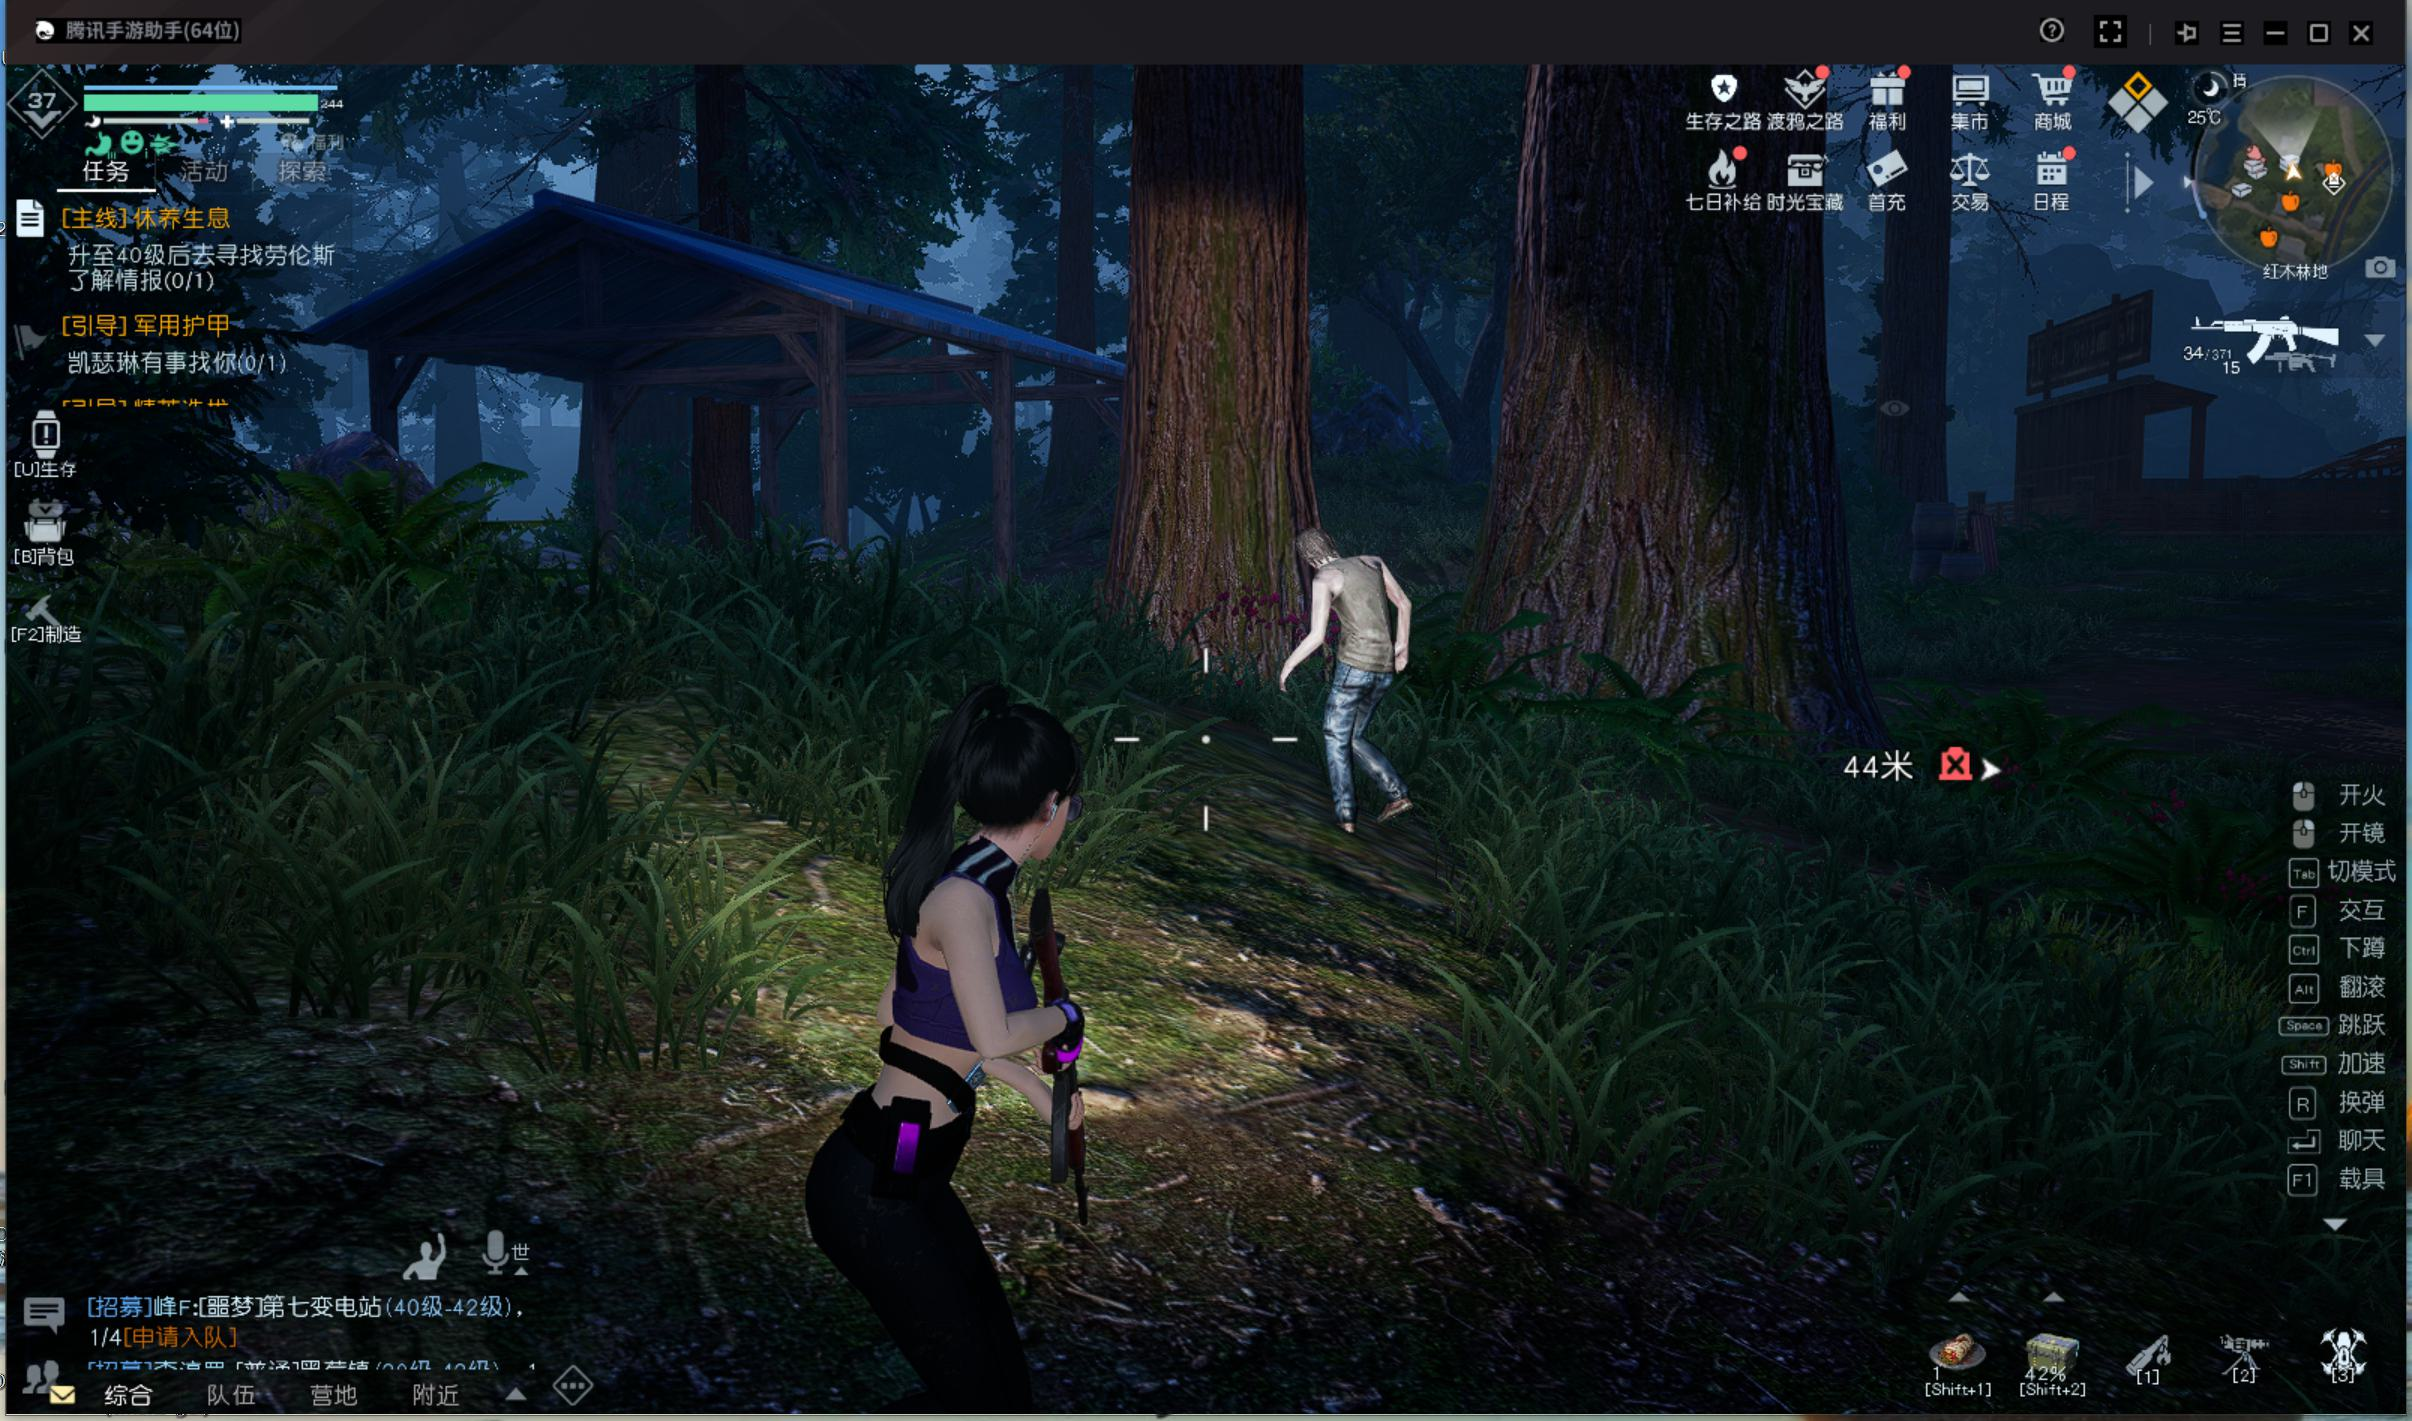tree: (1103, 112, 1345, 551), (1861, 250, 1964, 568)
